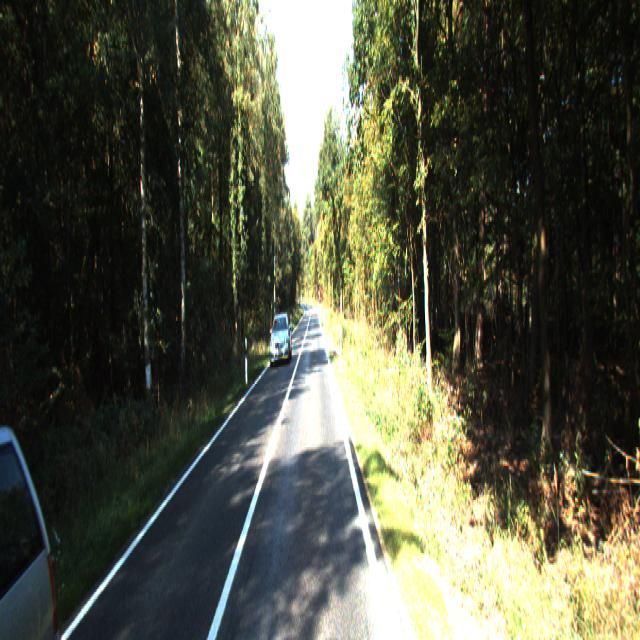Car: (0, 379, 109, 638), (268, 312, 292, 367)
